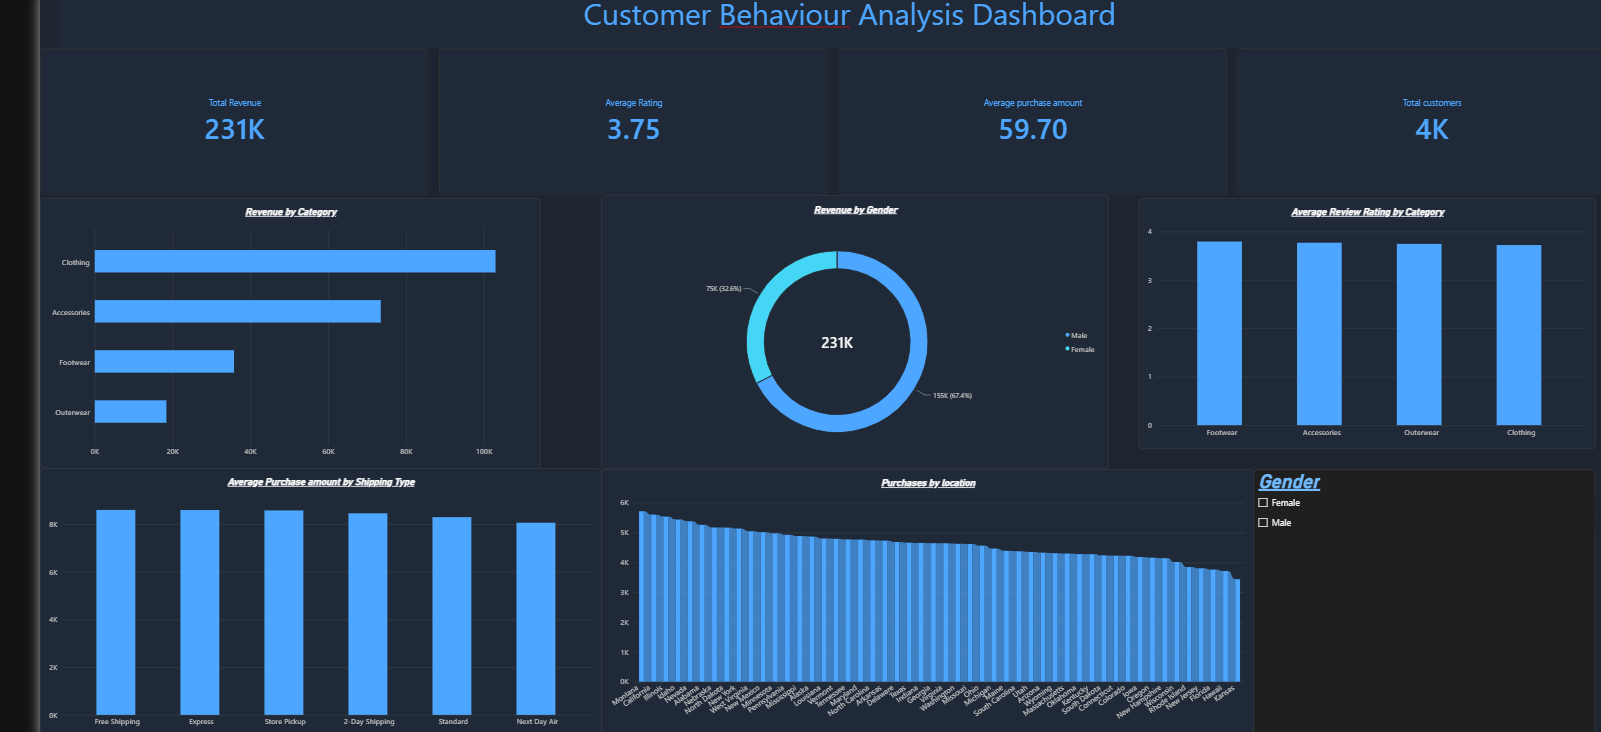

This screenshot's page, from the dashboard's own definition file:
{"tool":"powerbi","page":{"name":"Page 2","canvas":[3000,1400],"ordinal":0},"visuals":[{"type":"cardVisual","fields":{"Data":["Customer_behavior_cleaned.Total Revenue","Customer_behavior_cleaned.Average Rating","Customer_behavior_cleaned.Average purchase amount","Customer_behavior_cleaned.Total customers"]},"box":[0,103.2,2977.3,275.2],"z":0},{"type":"clusteredBarChart","title":"Revenue by Category","fields":{"Category":["Customer_behavior_cleaned.Category"],"Y":["Sum(Customer_behavior_cleaned.Purchase Amount (USD))"]},"box":[0,383.7,939.5,508.1],"z":1000},{"type":"donutChart","title":"Revenue by Gender","fields":{"Category":["Customer_behavior_cleaned.Gender"],"Y":["Sum(Customer_behavior_cleaned.Purchase Amount (USD))"]},"box":[1053.3,381.1,952.7,513.4],"z":2000},{"type":"clusteredColumnChart","title":"Average Purchase amount by Shipping Type","fields":{"Category":["Customer_behavior_cleaned.Shipping Type"],"Y":["Sum(Customer_behavior_cleaned.Purchase Amount (USD))"]},"box":[0,891.9,1053.3,508.1],"z":3000},{"type":"clusteredColumnChart","title":"Average Review Rating by Category","fields":{"Category":["Customer_behavior_cleaned.Category"],"Y":["Avg(Customer_behavior_cleaned.Review Rating)"]},"box":[2061.6,383.7,857.5,471.1],"z":4000},{"type":"ribbonChart","title":"Purchases by location","fields":{"Category":["Customer_behavior_cleaned.Location"],"Y":["Customer_behavior_cleaned.Total Revenue"]},"box":[1053.3,894.5,1225.3,505.5],"z":5000},{"type":"textbox","box":[37.1,0,2964,103.2],"z":6000},{"type":"slicer","fields":{"Values":["Customer_behavior_cleaned.Gender"]},"box":[2278.6,894.5,641,505],"z":6001}]}

Visuals, with their boxes in screenshot pixels (x1, y1, x2, y2), scaled from the page's 3000x1400 canvas onto the 1601x732 screenshot:
cardVisual - Customer_behavior_cleaned.Total Revenue x Customer_behavior_cleaned.Average Rating: box(0, 54, 1589, 198)
"Revenue by Category" clusteredBarChart: box(0, 201, 501, 466)
"Revenue by Gender" donutChart: box(562, 199, 1071, 468)
"Average Purchase amount by Shipping Type" clusteredColumnChart: box(0, 466, 562, 731)
"Average Review Rating by Category" clusteredColumnChart: box(1100, 201, 1558, 447)
"Purchases by location" ribbonChart: box(562, 468, 1216, 731)
textbox: box(20, 0, 1600, 54)
slicer - Customer_behavior_cleaned.Gender: box(1216, 468, 1558, 731)
